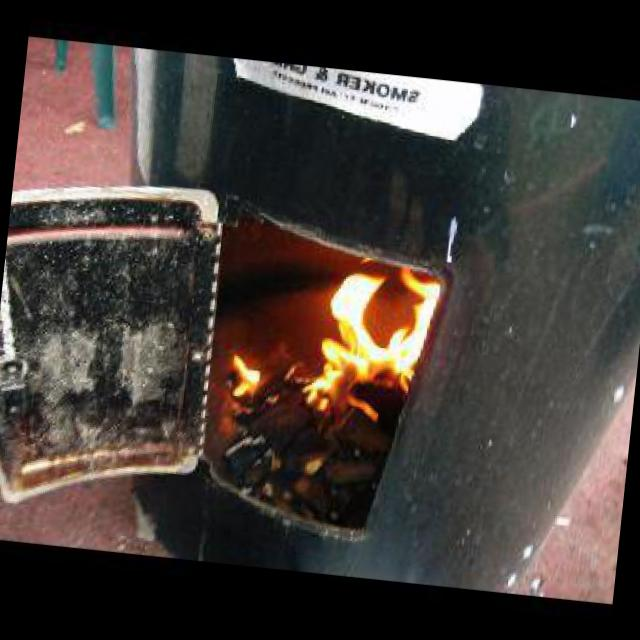fire: (222, 235, 444, 430)
